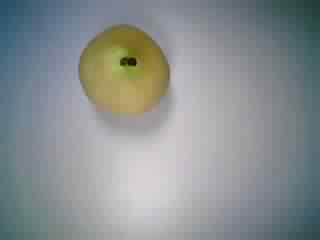pear: (70, 17, 175, 120)
